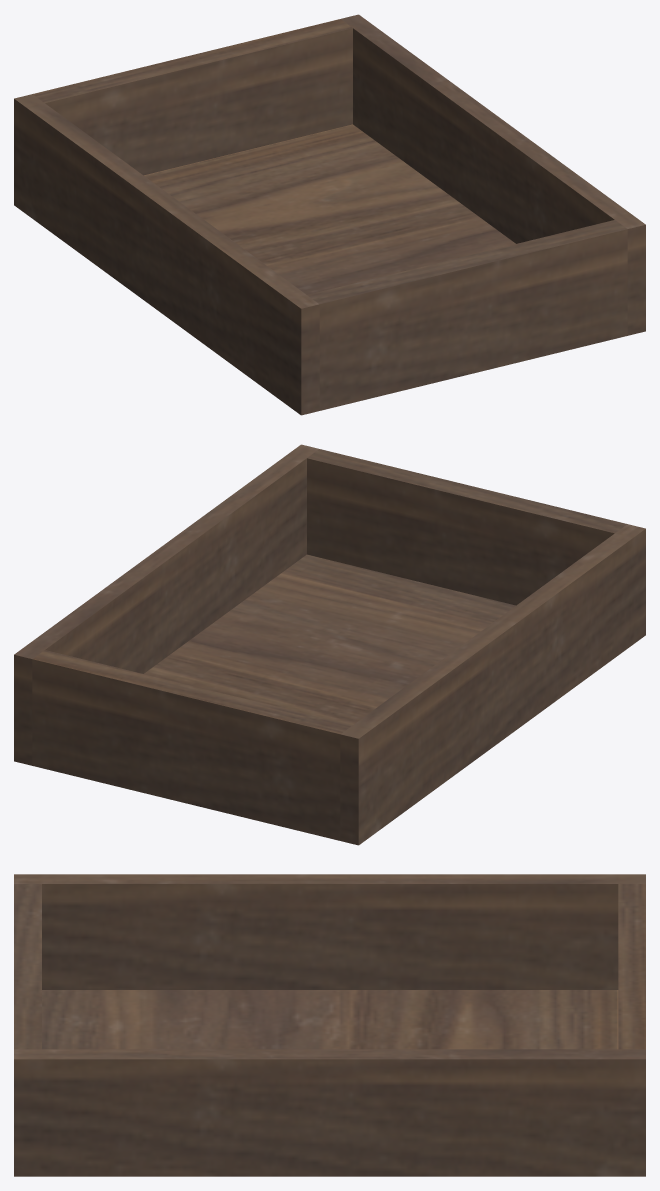
Rendered from Prop_pallete11w.fbx.
3 views of the same model, one above another, from view 1: azimuth 30°, elevation 25°; view 2: azimuth 150°, elevation 25°; view 3: azimuth 270°, elevation 25° (orthographic). The views are drawn at different scales.
Parts seen in each view (by area): view 1: Prop_pallete11w; view 2: Prop_pallete11w; view 3: Prop_pallete11w.
Part boxes in pixels (left/top/right/bottom): Prop_pallete11w: left=14, top=14, right=645, bottom=415; Prop_pallete11w: left=14, top=444, right=645, bottom=845; Prop_pallete11w: left=14, top=874, right=645, bottom=1176.
Bounding box in the file's own units: 0.5558 × 0.1644 × 0.8019.
